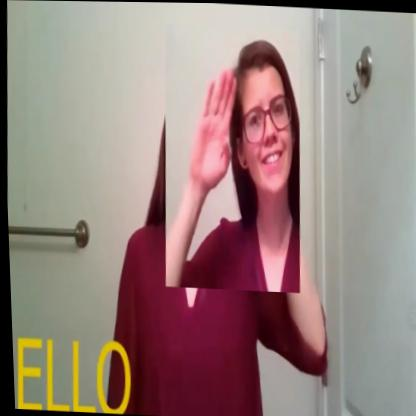Hello: (156, 23, 307, 292)
